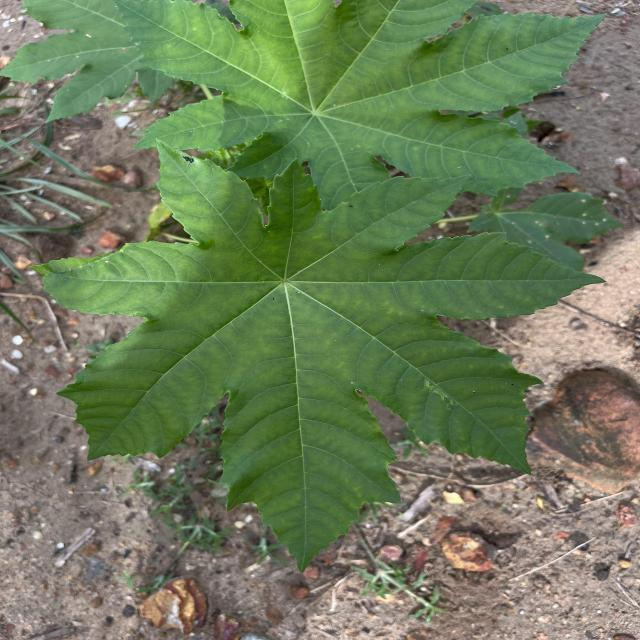Ricinus communis linn: (13, 131, 615, 581)
